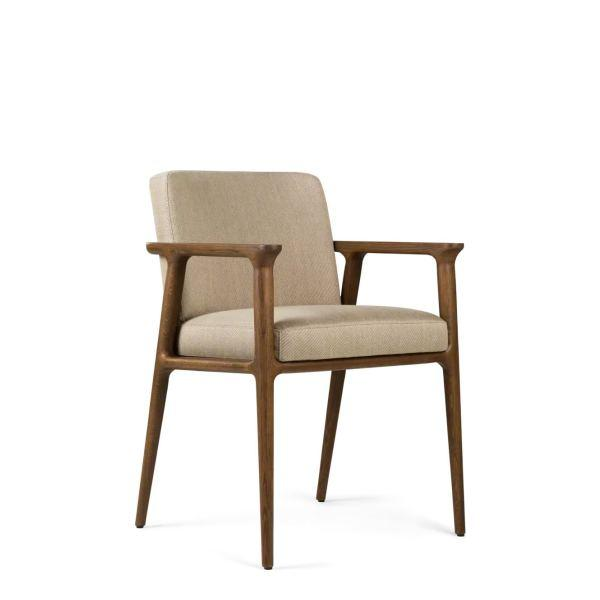chair: (140, 164, 474, 570)
